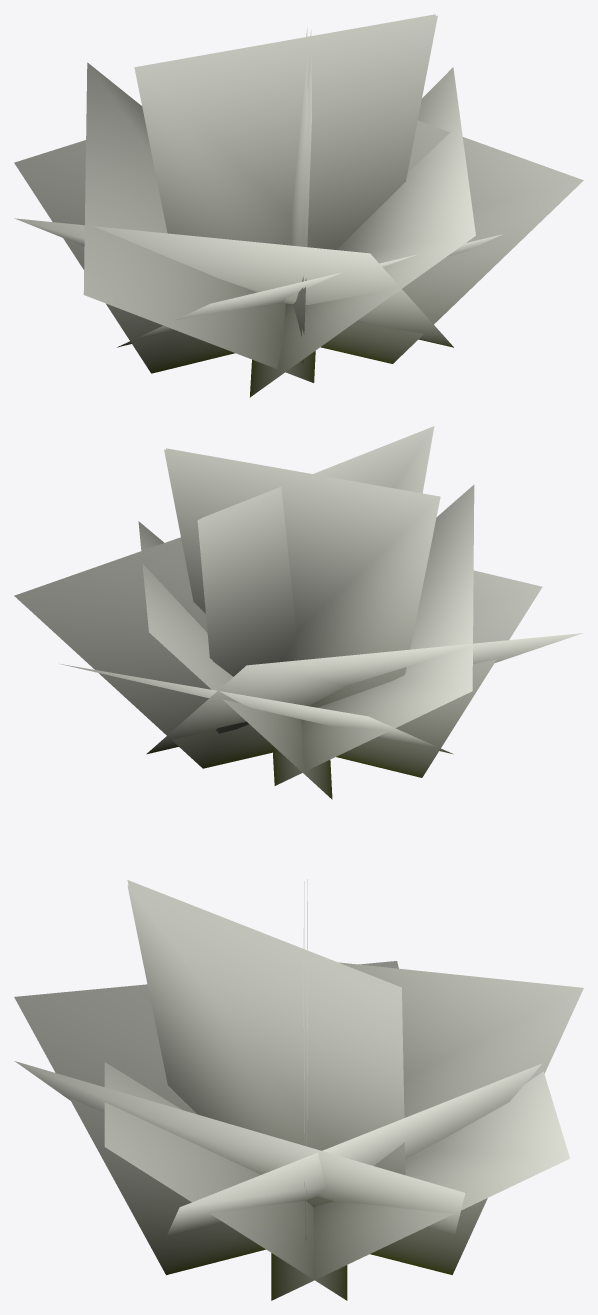
The model's file is SM_GDI_INN_Bush03_B1.fbx.
3 renders of one model, top to bottom at view 1: azimuth 30°, elevation 25°; view 2: azimuth 150°, elevation 25°; view 3: azimuth 270°, elevation 25°, orthographic. The views are drawn at different scales.
Parts seen in each view (by area): view 1: SM_GDI_INN_Bush03_B1_LOD0; view 2: SM_GDI_INN_Bush03_B1_LOD0; view 3: SM_GDI_INN_Bush03_B1_LOD0.
Part boxes in pixels (left/top/right/bottom): SM_GDI_INN_Bush03_B1_LOD0: left=14, top=14, right=583, bottom=397; SM_GDI_INN_Bush03_B1_LOD0: left=14, top=426, right=582, bottom=799; SM_GDI_INN_Bush03_B1_LOD0: left=14, top=879, right=583, bottom=1300.
Bounding box in the file's own units: 359 × 205 × 333.
